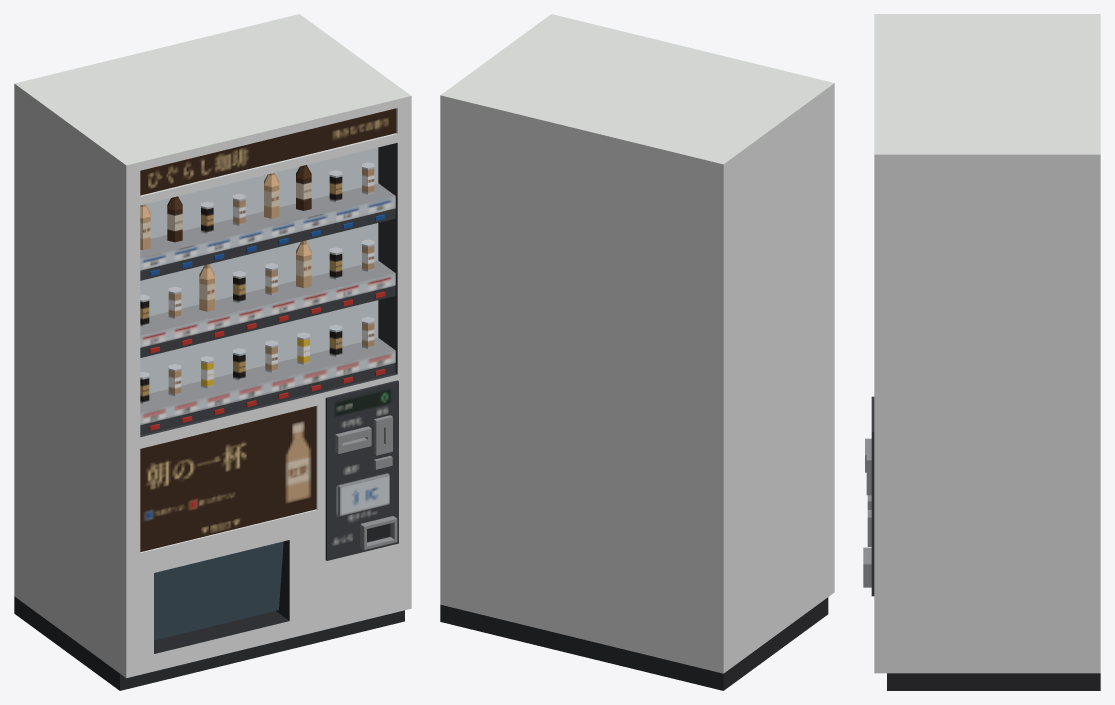
Rendered from SM_Street_Vending_HD_White_103_01.fbx.
3 views of the same model, side by side, from view 1: azimuth 30°, elevation 25°; view 2: azimuth 150°, elevation 25°; view 3: azimuth 270°, elevation 25° (orthographic).
Parts seen in each view (by area): view 1: SM_Street_Vending_HD_White_103_01; view 2: SM_Street_Vending_HD_White_103_01; view 3: SM_Street_Vending_HD_White_103_01.
Boxes of the visible parts, left/top/right/bottom form: SM_Street_Vending_HD_White_103_01: left=14, top=14, right=411, bottom=690; SM_Street_Vending_HD_White_103_01: left=440, top=14, right=834, bottom=690; SM_Street_Vending_HD_White_103_01: left=863, top=14, right=1100, bottom=690.
Size of the model in its own units: 1.03 by 1.83 by 0.733.
Materials: 1 (1 with a texture image).
